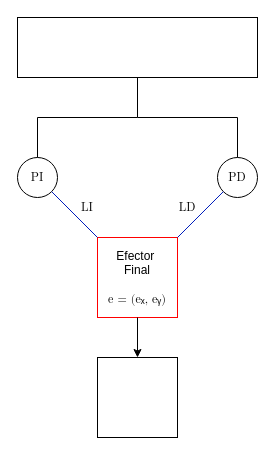
This 275x455 diagram has some shape labels left out. Each missing label, with the box of its shape:
Control desde ROS 2: (96, 356, 178, 438)
Estructura Fija (Pizarra con Ruedas): (16, 16, 258, 78)
